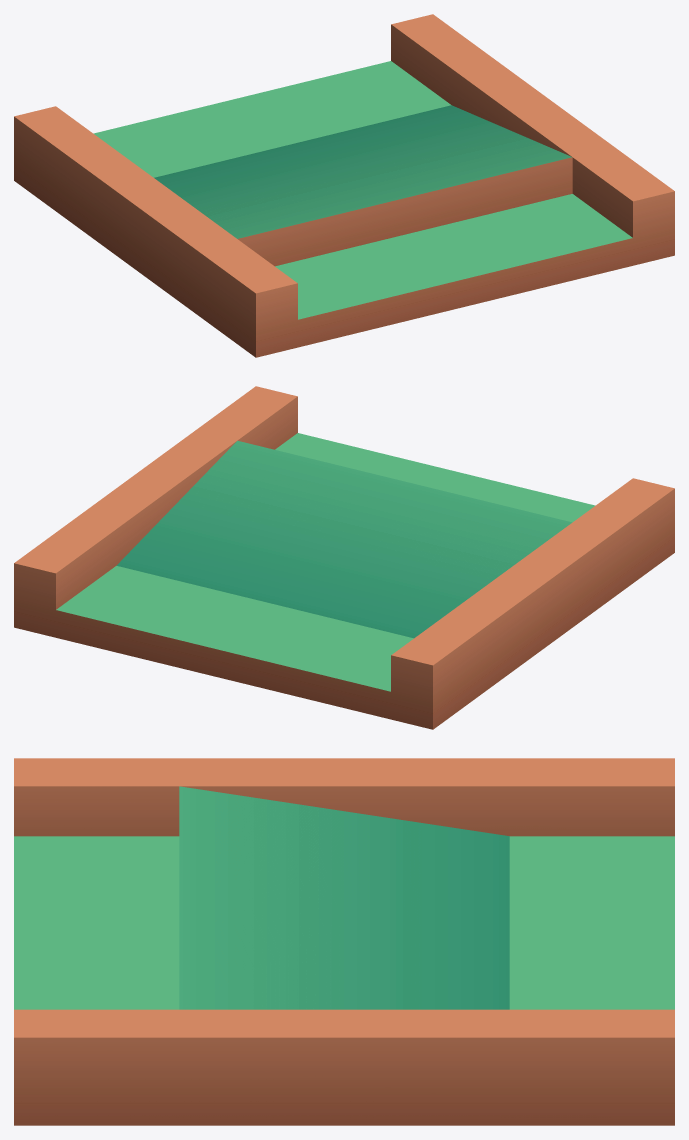
Rendered from ramp-sharp.glb.
3 views of the same model, one above another, from view 1: azimuth 30°, elevation 25°; view 2: azimuth 150°, elevation 25°; view 3: azimuth 270°, elevation 25° (orthographic). The views are drawn at different scales.
Parts seen in each view (by area): view 1: ramp-sharp; view 2: ramp-sharp; view 3: ramp-sharp.
Boxes of the visible parts, box(x1,y1,x2,y2) form: ramp-sharp: box(14, 14, 674, 357); ramp-sharp: box(14, 386, 674, 729); ramp-sharp: box(14, 758, 674, 1125).
Size of the model in its own units: 0.9999 by 0.1467 by 0.9999.
1 material, 1 textured.
